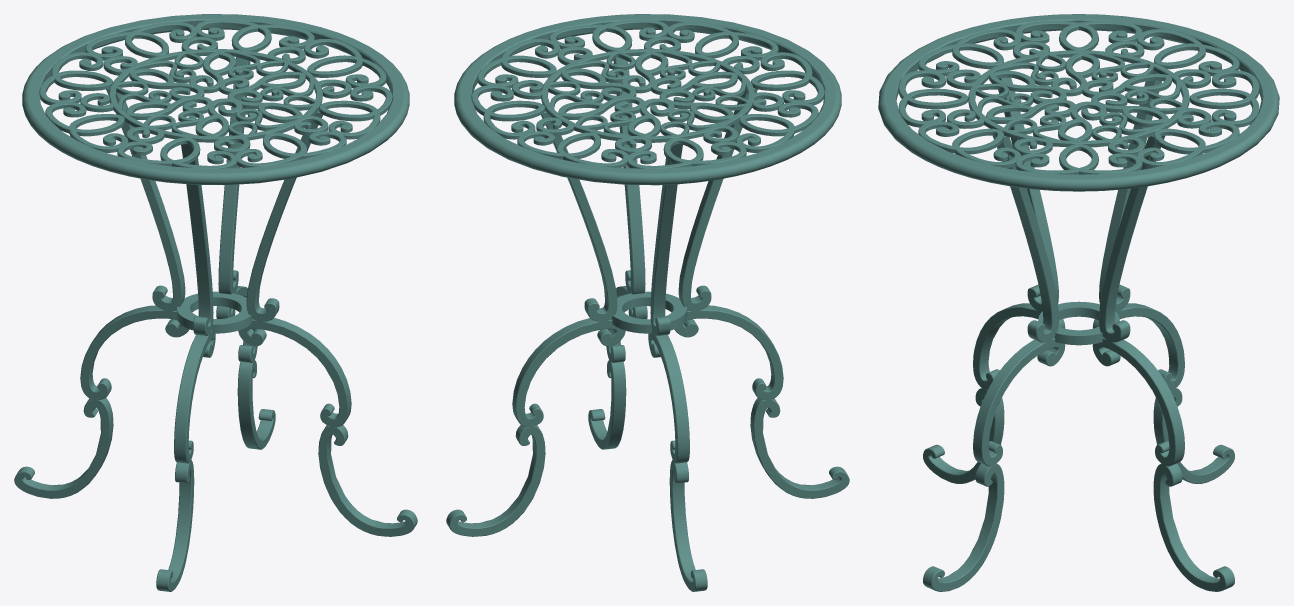
The model's file is 700_ガーデンテーブル.glb.
3 views of the same model, side by side, from view 1: azimuth 30°, elevation 25°; view 2: azimuth 150°, elevation 25°; view 3: azimuth 270°, elevation 25° (orthographic). The views are drawn at different scales.
Parts seen in each view (by area): view 1: Body1; view 2: Body1; view 3: Body1.
Part boxes in pixels (<box>): Body1: <box>14,14,417,591</box>; Body1: <box>446,14,849,591</box>; Body1: <box>878,14,1279,591</box>.
Bounding box in the file's own units: 0.5985 × 0.717 × 0.5974.
